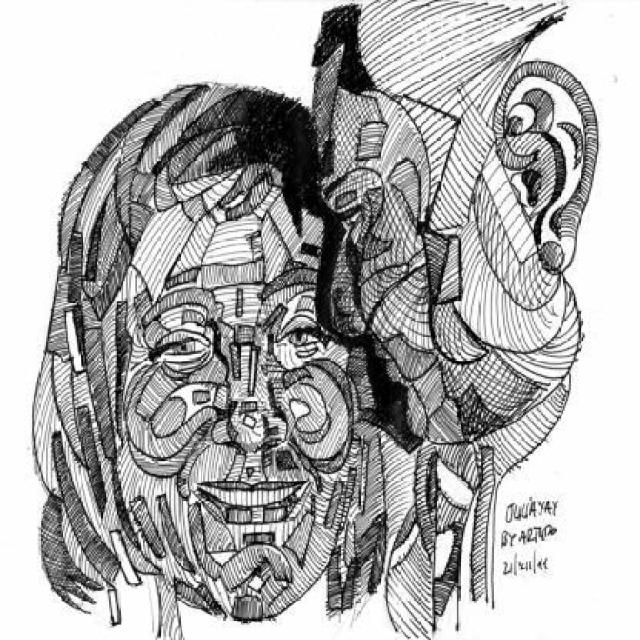Person: (29, 0, 575, 638)
